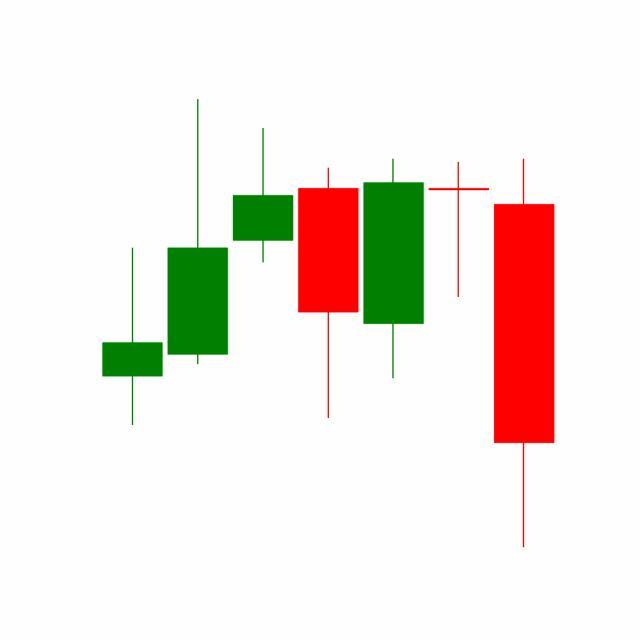Three Inside Up-Down: (360, 155, 556, 549)
